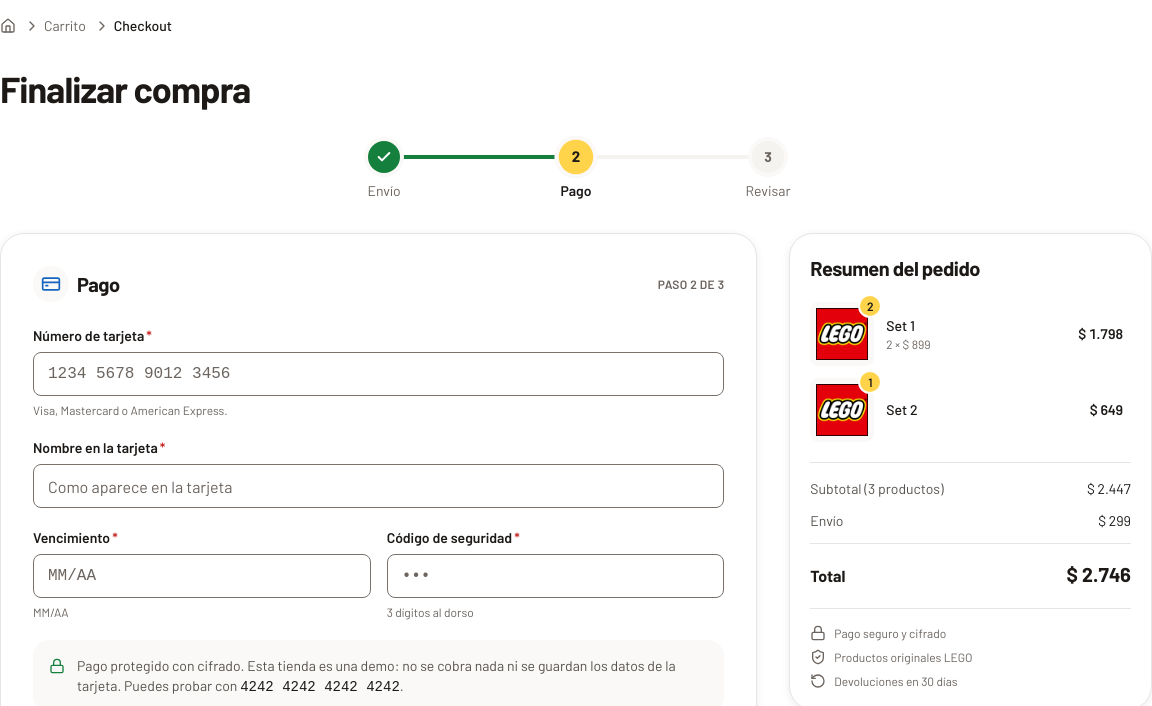
Checkout › validates the card step
Step 1. Type "4242424242424241" into the field labelled "Número de tarjeta*" → (379, 374), box x1=33 y1=352 x2=724 y2=396
(page scrolled)
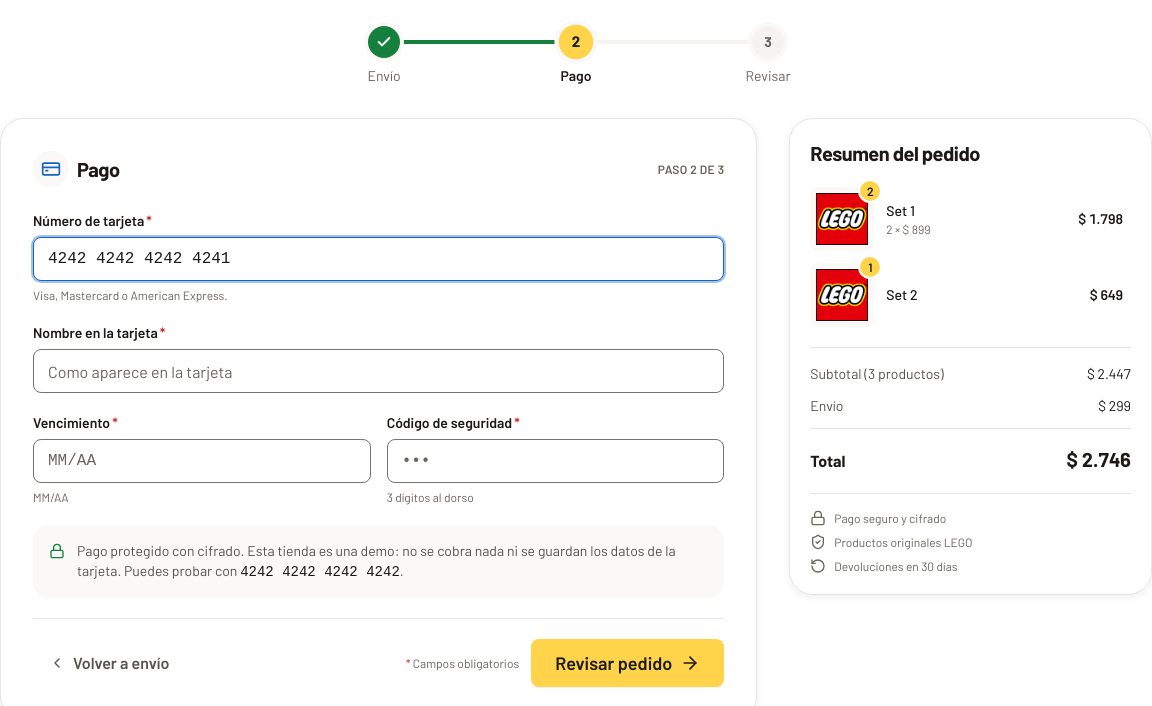
Step 2. Click the button "Revisar pedido" → click(628, 663), box x1=531 y1=639 x2=724 y2=687
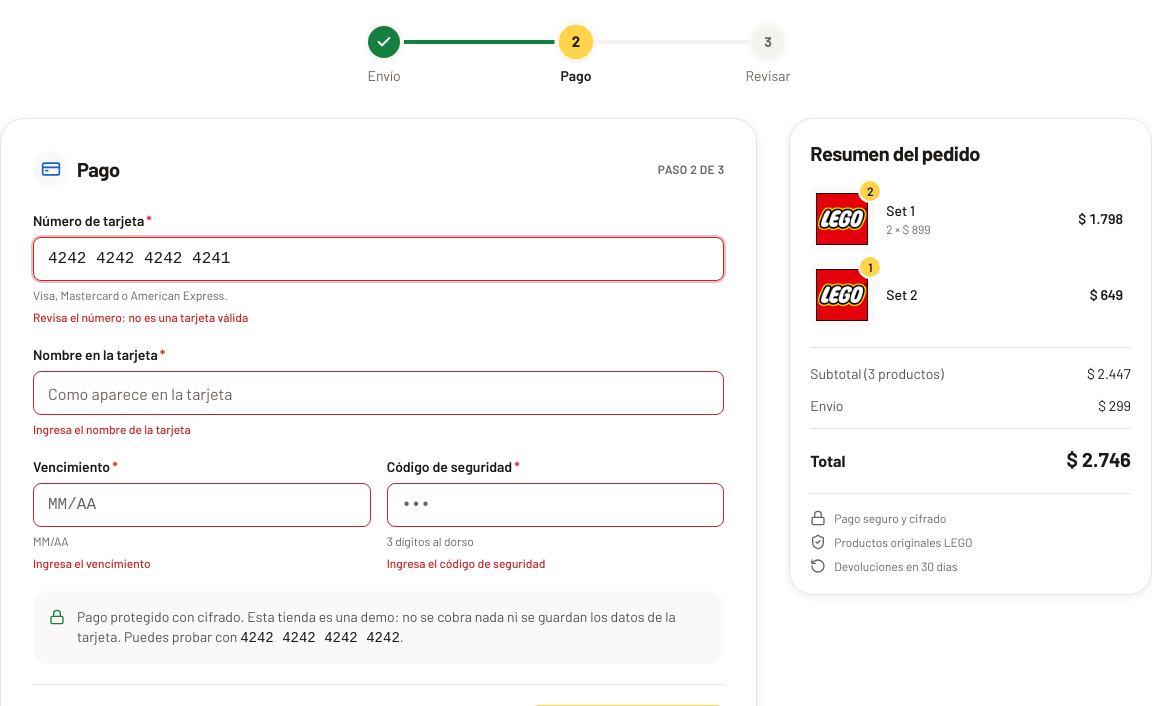
Expected: the text "Revisa el número: no es una tarjeta válida" is shown, x1=33 y1=310 x2=248 y2=324
Expected: the text "Ingresa el vencimiento" is shown, x1=33 y1=556 x2=151 y2=570
